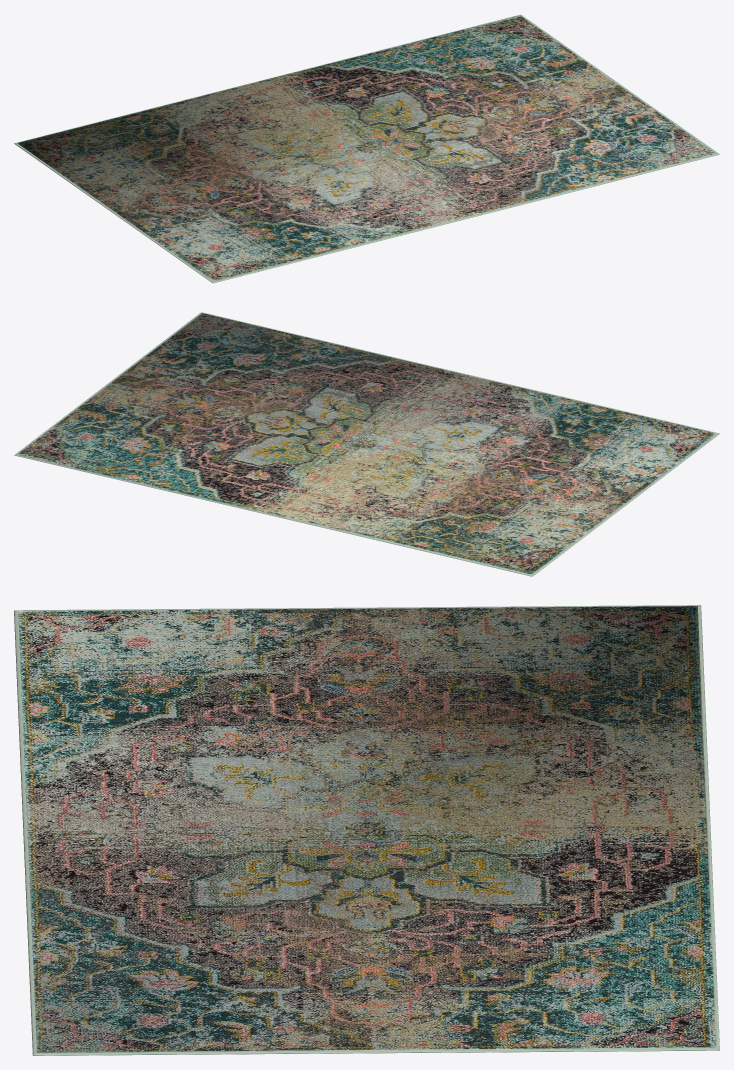
Rendered from rug_abo_B072PW7DXQ.glb.
3 views of the same model, one above another, from view 1: azimuth 30°, elevation 25°; view 2: azimuth 150°, elevation 25°; view 3: azimuth 270°, elevation 25° (orthographic). The views are drawn at different scales.
Parts seen in each view (by area): view 1: RootNode; view 2: RootNode; view 3: RootNode.
Part boxes in pixels (<box>): RootNode: <box>14,14,719,283</box>; RootNode: <box>14,312,719,576</box>; RootNode: <box>14,605,719,1055</box>.
Size of the model in its own units: 2.36 by 0.00375 by 1.57.
1 material, 1 textured.
